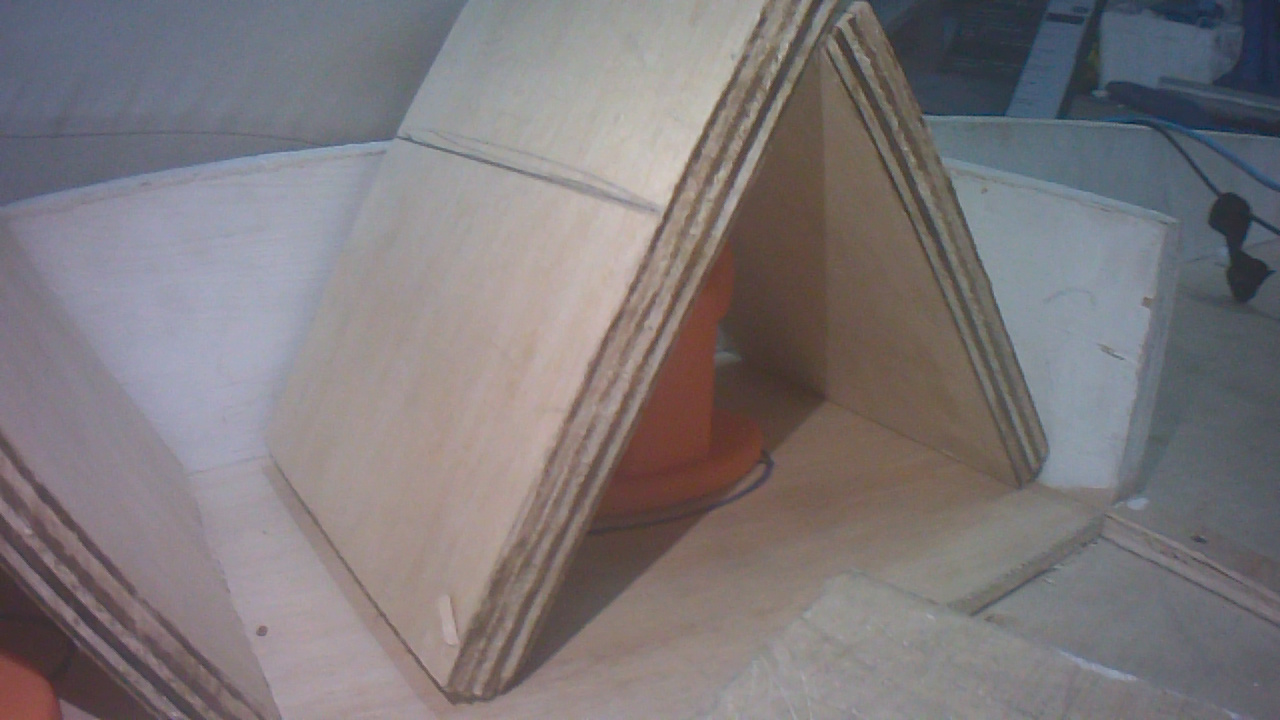real: (568, 157, 780, 534)
